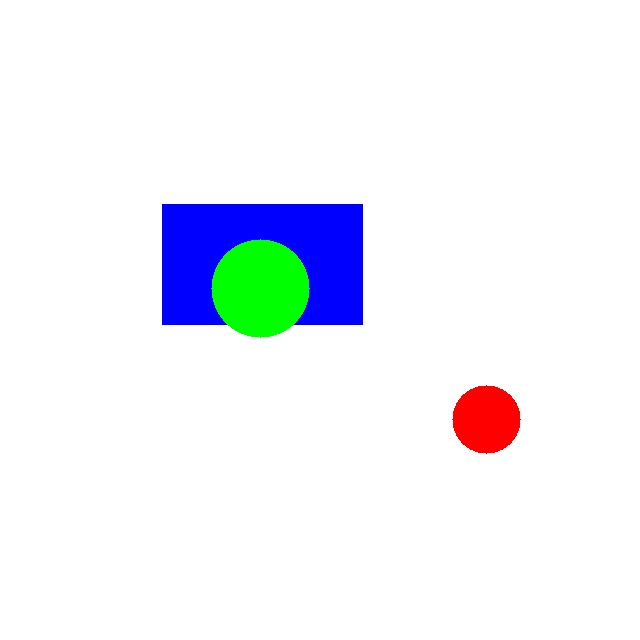cartao: (162, 204, 362, 324)
rosca_externa: (211, 239, 309, 337)
rosca_interna: (452, 385, 520, 453)
